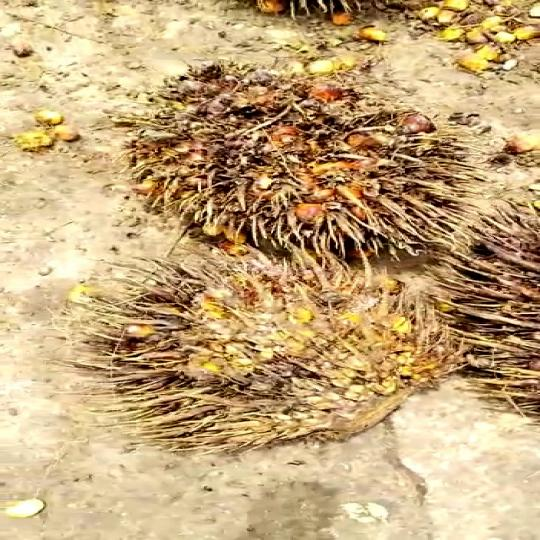terlalu masak: (113, 59, 474, 262), (102, 264, 448, 457)
